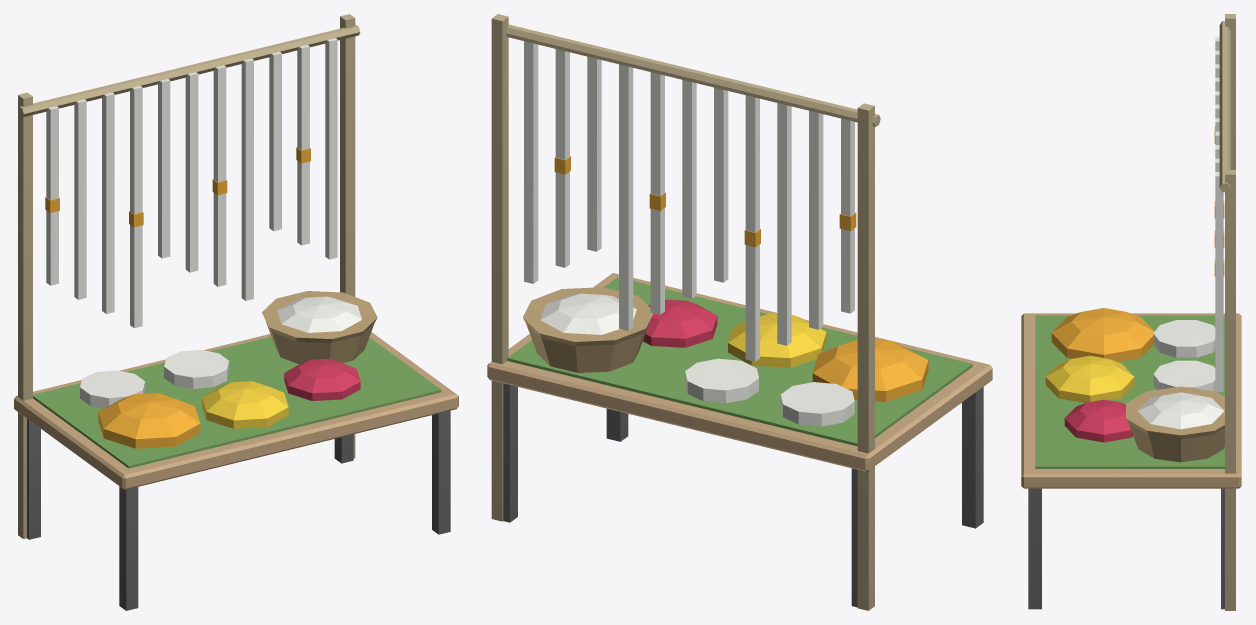
Rendered from flower_stall.glb.
The picture shows the model from 3 angles, left to right: view 1: azimuth 30°, elevation 25°; view 2: azimuth 150°, elevation 25°; view 3: azimuth 270°, elevation 25°; orthographic projection. The views are drawn at different scales.
Visible parts, largest first — view 1: flower_stall; view 2: flower_stall; view 3: flower_stall.
Part boxes in pixels (box(x1,y1,x2,y2)): flower_stall: box(14, 14, 458, 610); flower_stall: box(487, 14, 992, 610); flower_stall: box(1021, 14, 1241, 610).
Bounding box in the file's own units: 1.4 × 1.75 × 0.7999.
